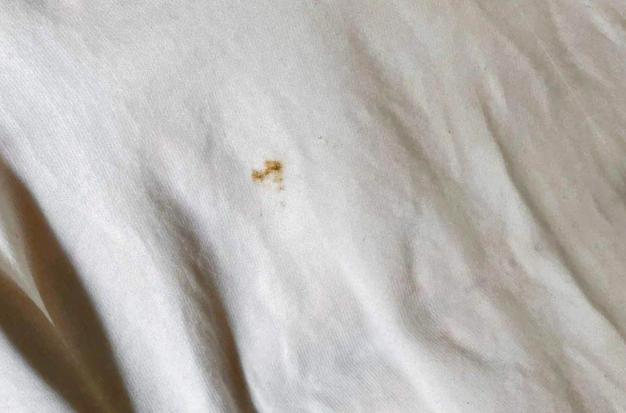stain: (246, 152, 299, 208)
